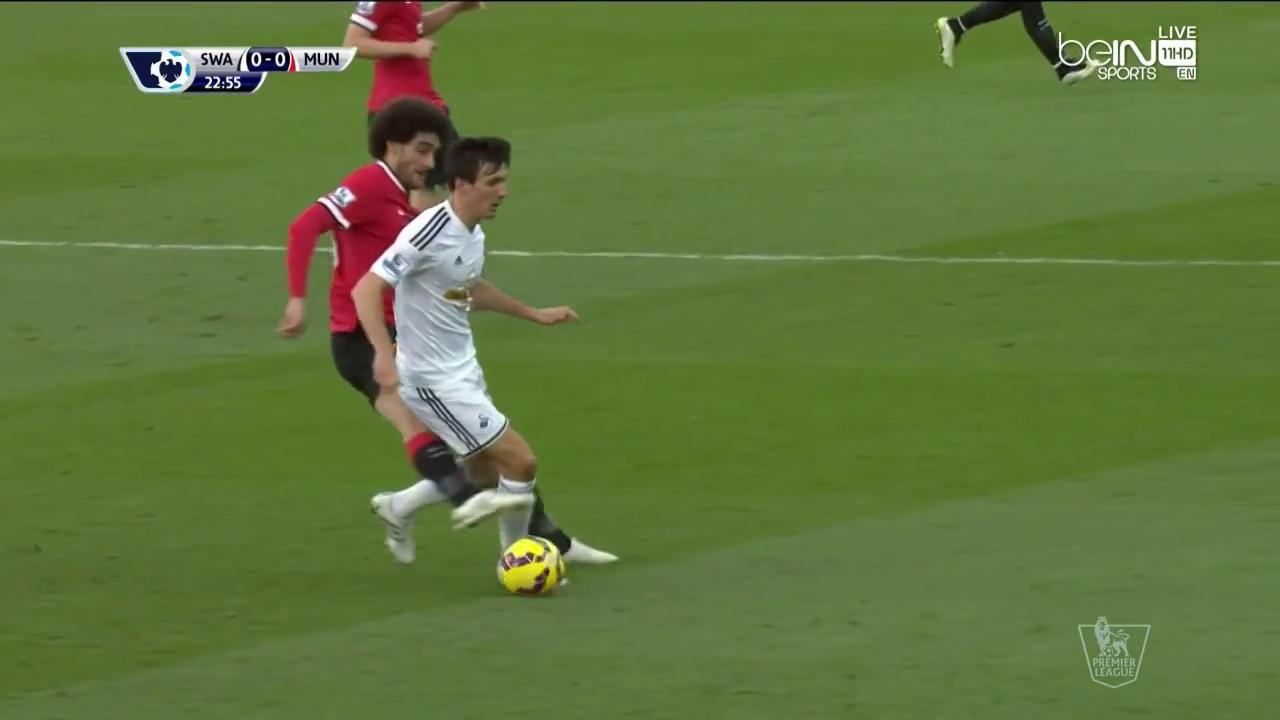football: (497, 535, 566, 596)
